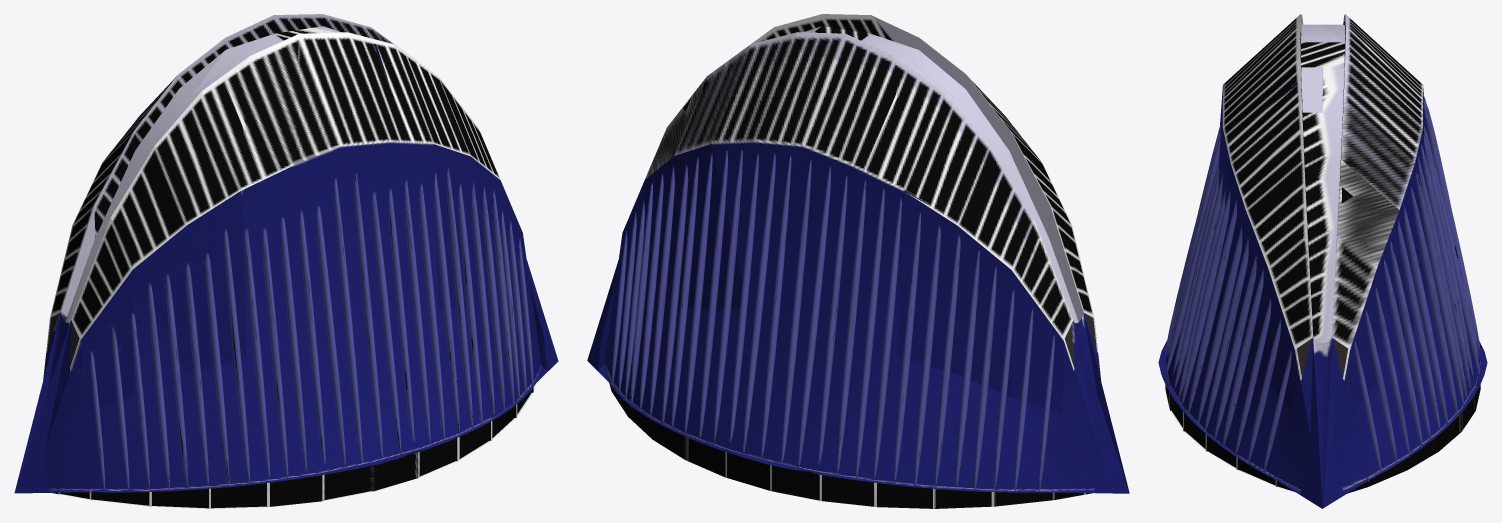
The model's file is PIIE_AR_MO030_AGORA1.fbx.
3 views of the same model, side by side, from view 1: azimuth 30°, elevation 25°; view 2: azimuth 150°, elevation 25°; view 3: azimuth 270°, elevation 25° (orthographic). The views are drawn at different scales.
Visible parts, largest first — view 1: PIIE_AR_MO030_AGORA; view 2: PIIE_AR_MO030_AGORA; view 3: PIIE_AR_MO030_AGORA.
Part boxes in pixels (bbox=[...]): PIIE_AR_MO030_AGORA: bbox=[14, 14, 558, 508]; PIIE_AR_MO030_AGORA: bbox=[587, 14, 1129, 508]; PIIE_AR_MO030_AGORA: bbox=[1158, 14, 1487, 508].
Size of the model in its own units: 36 by 25.51 by 20.93.
1 material, 1 textured.
